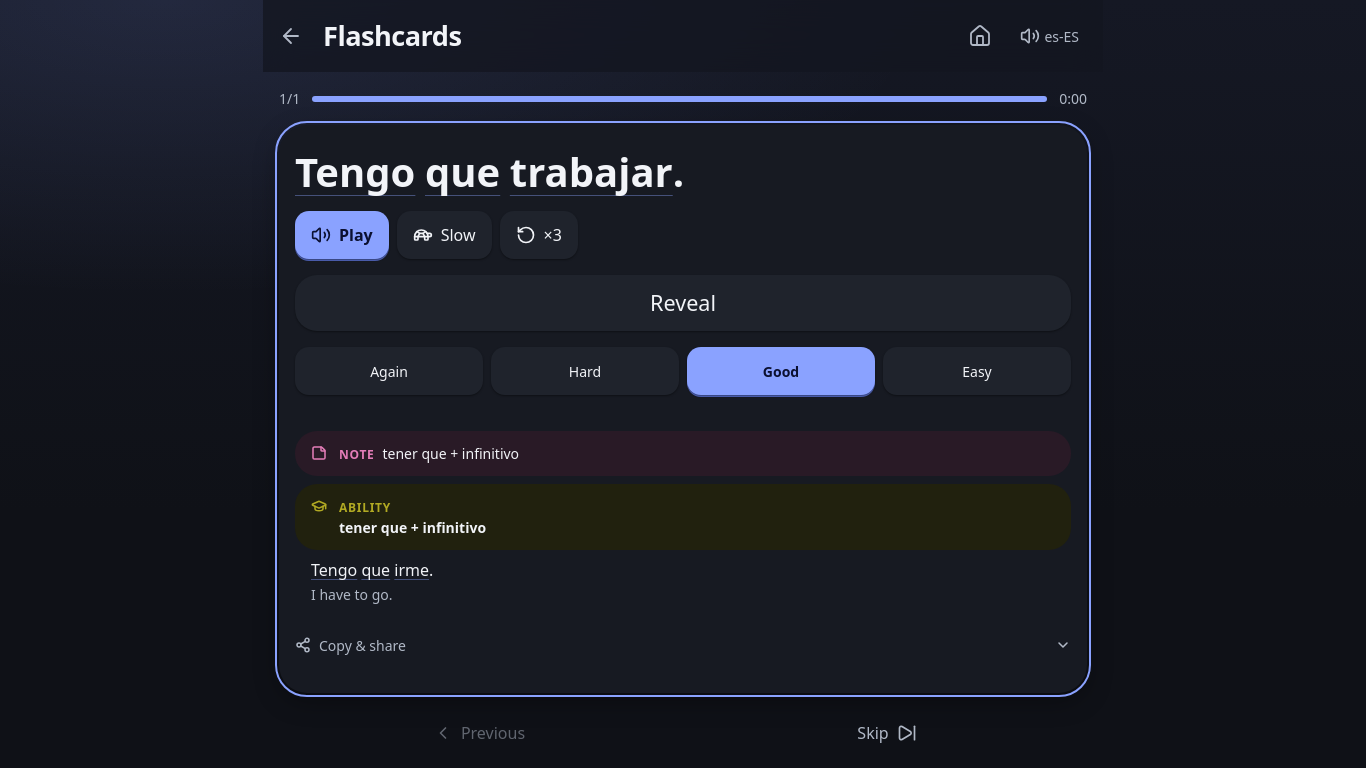
Test: word inspection › opens a panel with meaning, grammar, pattern and other forms
This screenshot has width=1366, height=768.
Step 1. Click the button with aria-label "About “Tengo”" → (355, 172), box x1=295 y1=149 x2=415 y2=195
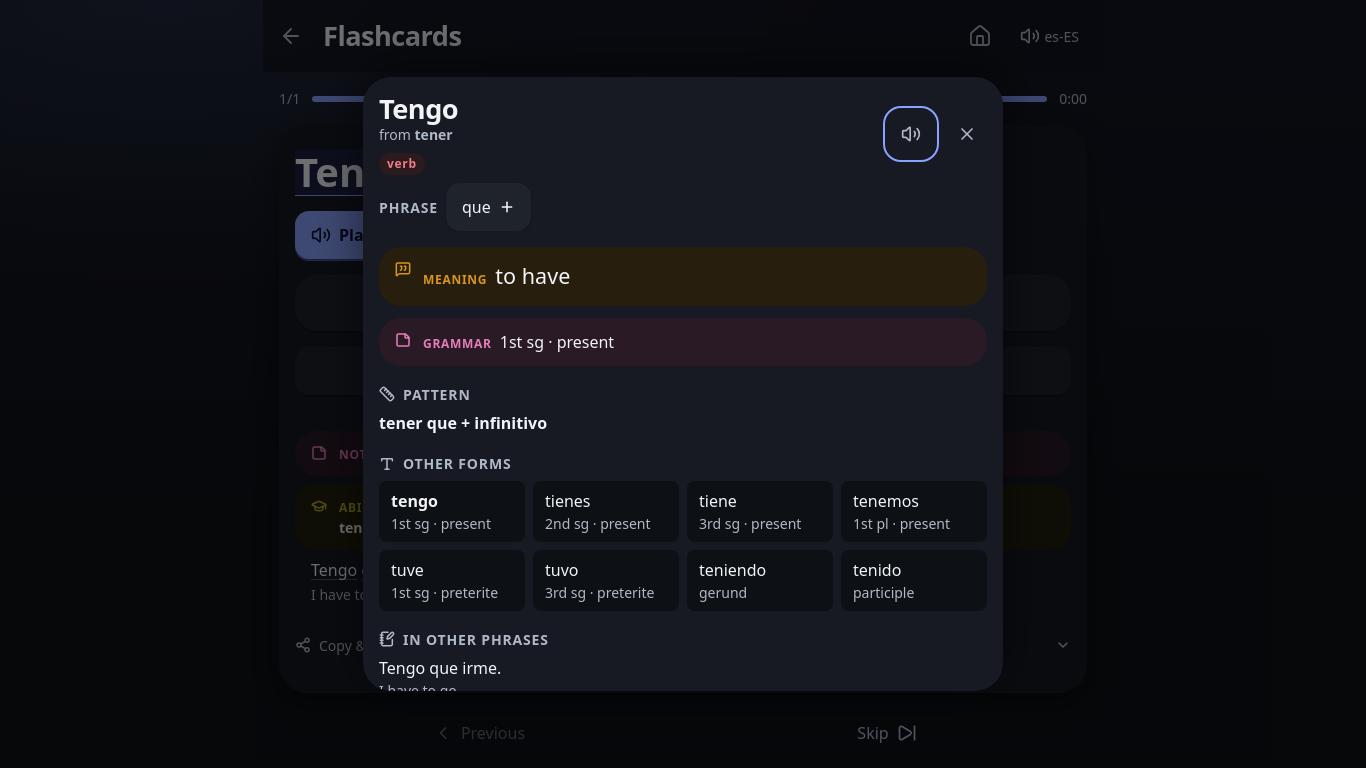
Expected: the dialog named "About Tengo" shows "to have", x1=495 y1=261 x2=570 y2=290
Expected: the dialog named "About Tengo" shows "1st sg · present", x1=500 y1=331 x2=614 y2=353
Expected: the dialog named "About Tengo" shows "tener que + infinitivo", x1=379 y1=412 x2=547 y2=434
Step 2. Click the button named "Close" → (967, 134), box x1=943 y1=110 x2=991 y2=158
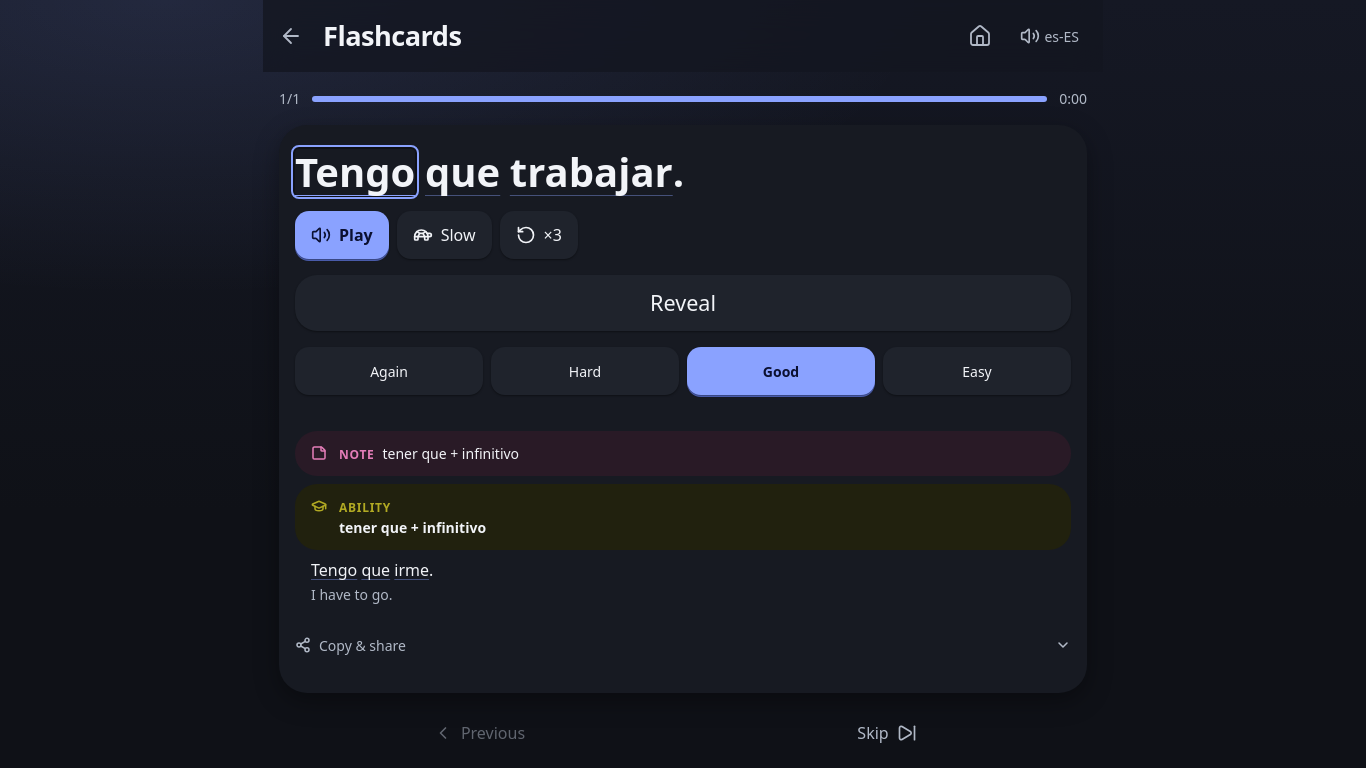
Expected: the dialog is gone
